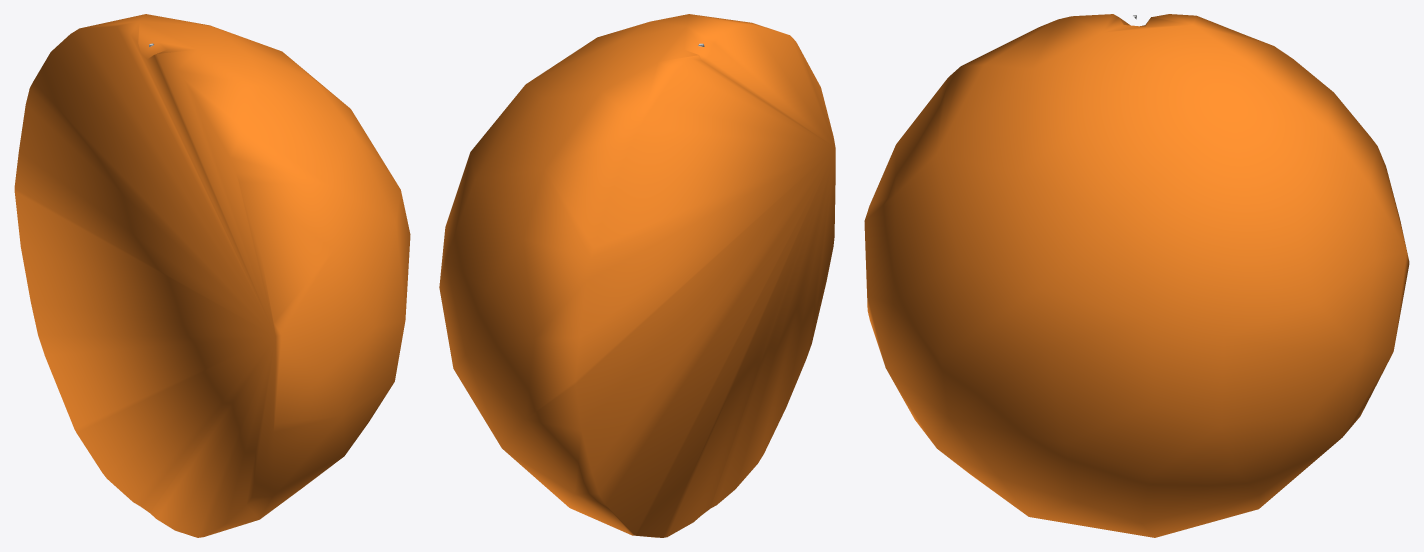
The model's file is orange_right.obj.
The picture shows the model from 3 angles, left to right: view 1: azimuth 30°, elevation 25°; view 2: azimuth 150°, elevation 25°; view 3: azimuth 270°, elevation 25°; orthographic projection. The views are drawn at different scales.
Parts seen in each view (by area): view 1: orange; view 2: orange; view 3: orange.
Boxes of the visible parts, <box> form: orange: <box>14,14,410,537</box>; orange: <box>439,14,835,537</box>; orange: <box>864,14,1409,537</box>.
Size of the model in its own units: 0.0641 by 0.1234 by 0.1251.
